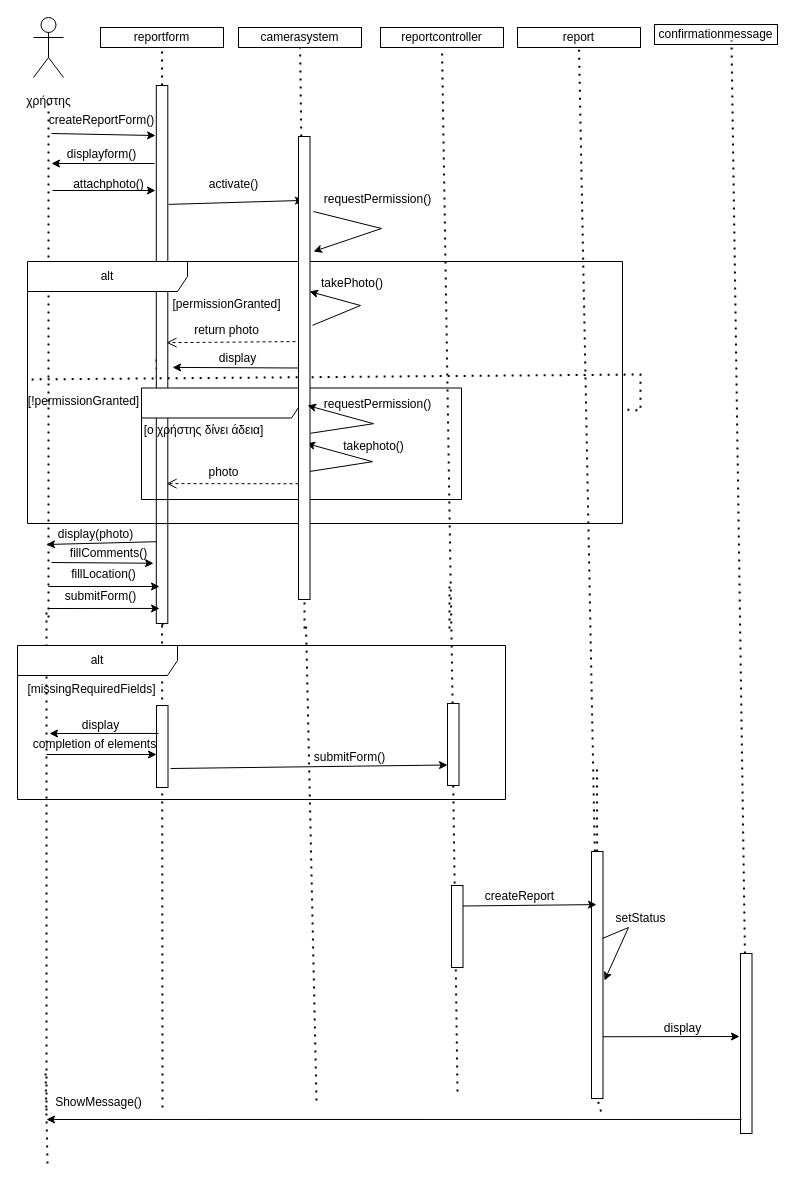
Some shapes in this 795 by 1183 pixel diagram are drawn without their labels. Here are the shapes that lost their labels. From the top down, the box of each, then its label:
(32, 16, 64, 78): Actor
(140, 387, 462, 500): opt
